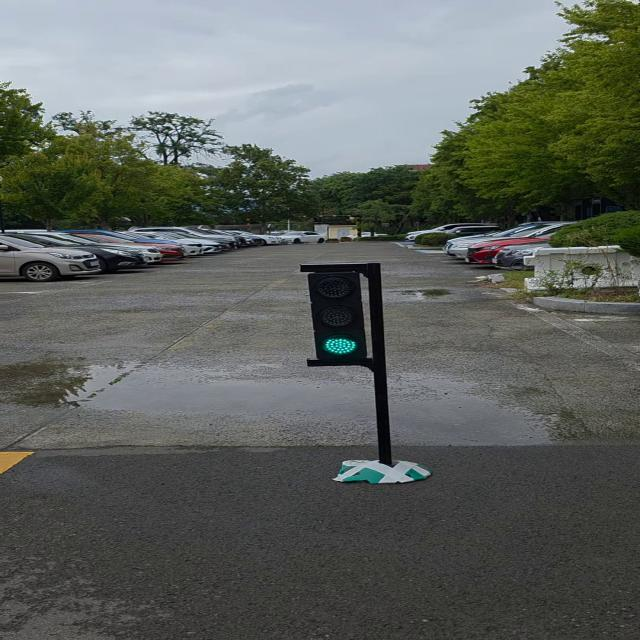green: (306, 266, 381, 364)
